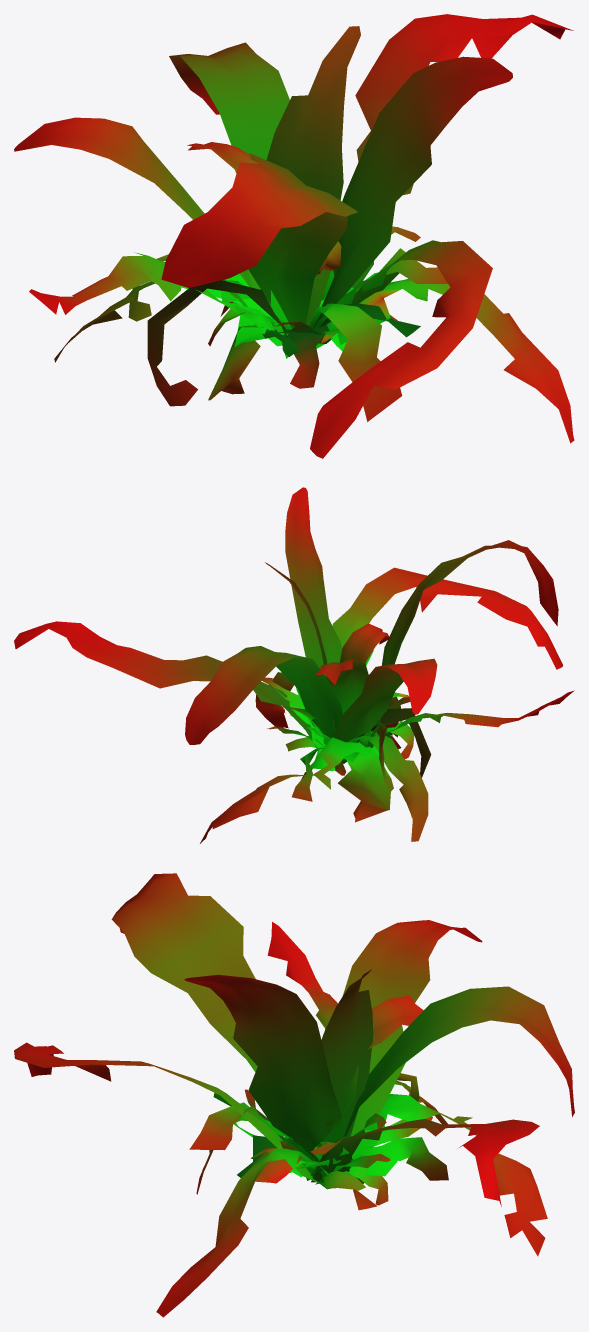
File: Fern_LOD0_Var2_sbslY.fbx
The picture shows the model from 3 angles, top to bottom: view 1: azimuth 30°, elevation 25°; view 2: azimuth 150°, elevation 25°; view 3: azimuth 270°, elevation 25°; orthographic projection. The views are drawn at different scales.
Parts seen in each view (by area): view 1: _134a_Var2_LOD0; view 2: _134a_Var2_LOD0; view 3: _134a_Var2_LOD0.
Part boxes in pixels (bbox=[...]): _134a_Var2_LOD0: bbox=[14, 14, 574, 458]; _134a_Var2_LOD0: bbox=[14, 487, 574, 843]; _134a_Var2_LOD0: bbox=[14, 873, 574, 1317].
Size of the model in its own units: 164 by 86.92 by 137.
